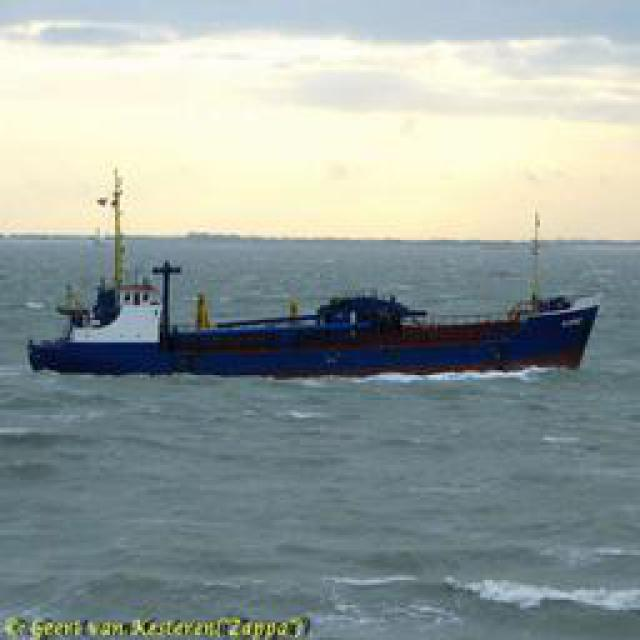Ship: (29, 279, 599, 382)
